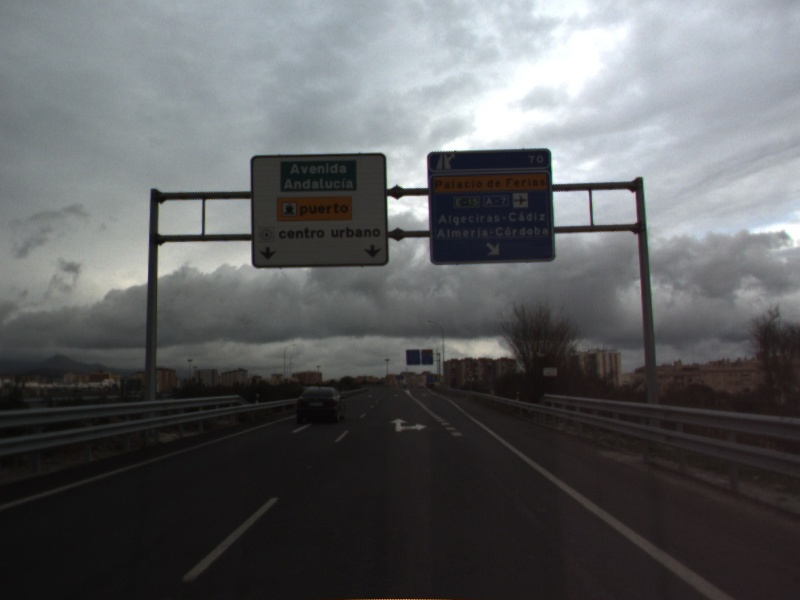STRAIGHT_RIGHT: (388, 416, 430, 434)
